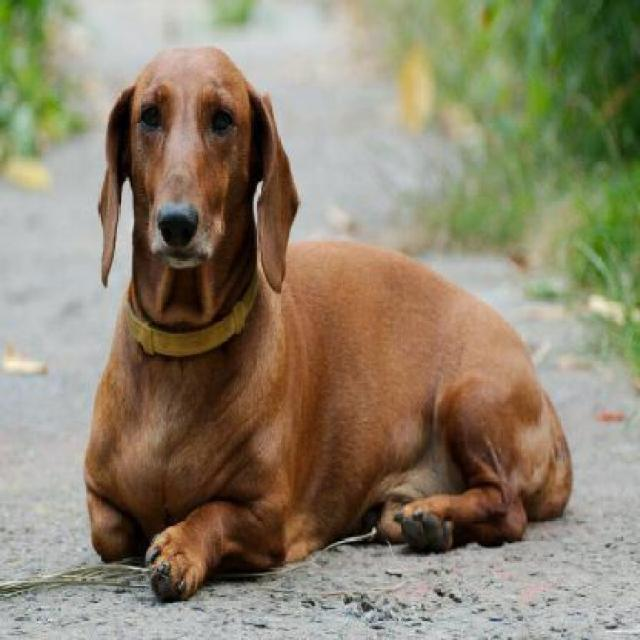Dog: (82, 43, 576, 605)
